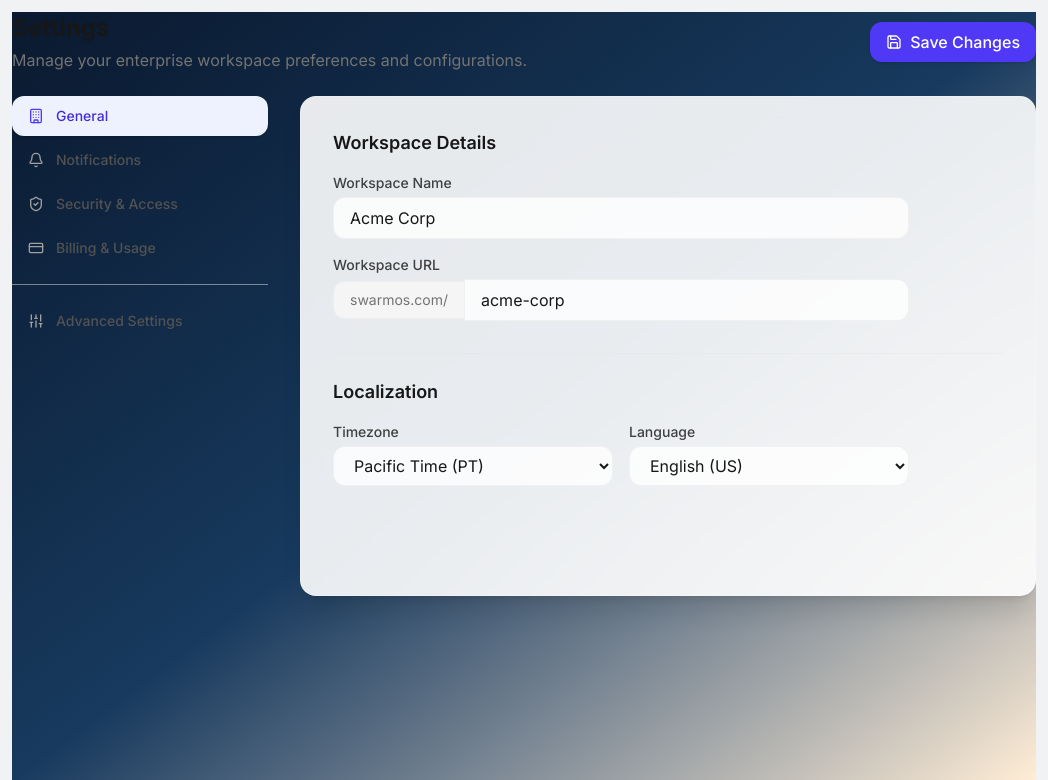
Settings Component › switches tabs correctly
Switch to Notifications
Click the button "Notifications".
click(140, 160)  # box left=12, top=140, right=268, bottom=180
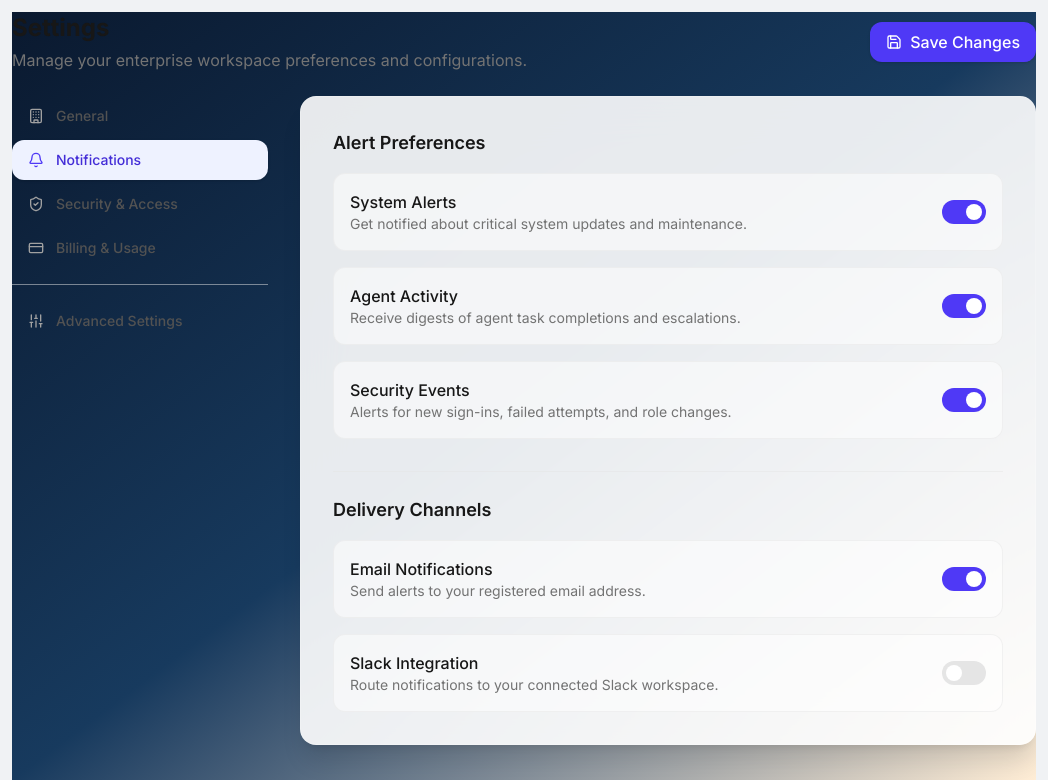
Result: the heading "Alert Preferences" is shown at left=333, top=132, right=486, bottom=153
Switch to Security & Access
Click the button "Security & Access".
click(140, 204)  # box left=12, top=184, right=268, bottom=224
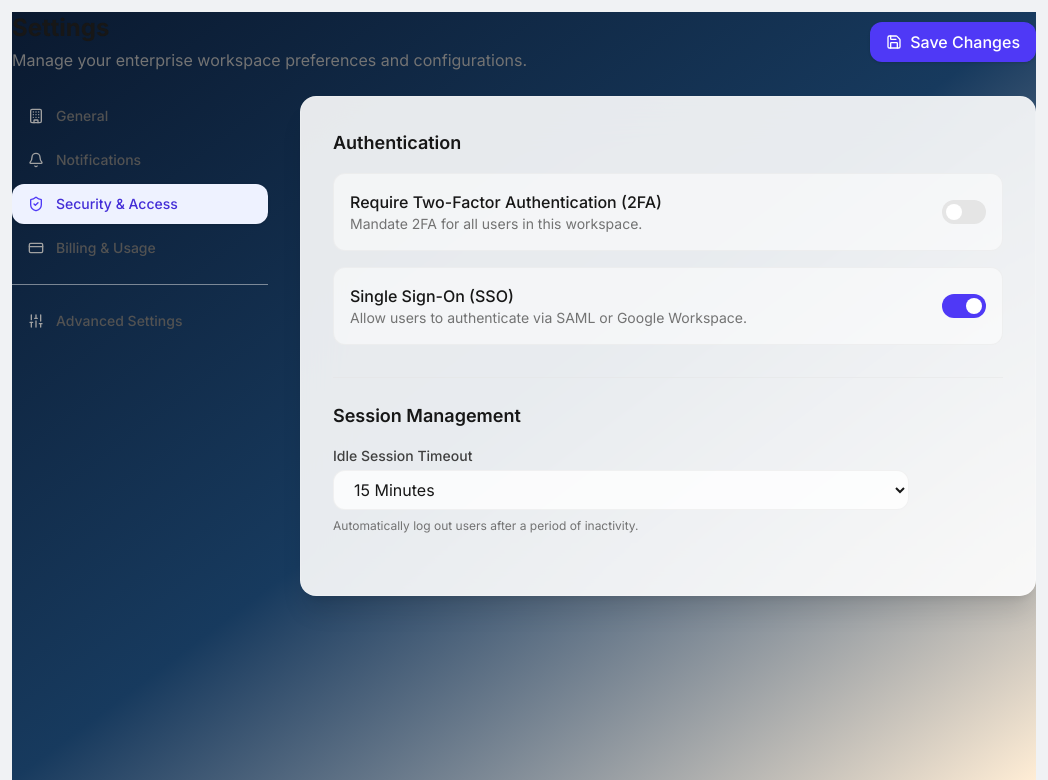
Result: the heading "Authentication" is shown at left=333, top=132, right=461, bottom=153
Switch to Billing & Usage
Click the button "Billing & Usage".
click(140, 248)  # box left=12, top=228, right=268, bottom=268
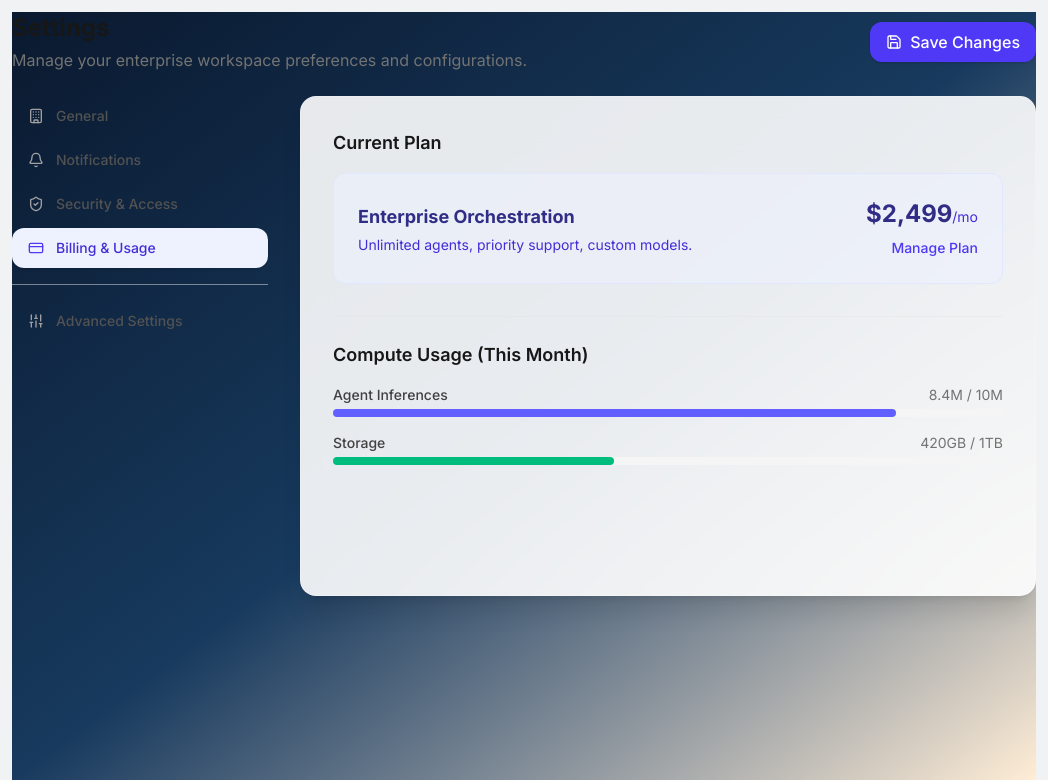
Result: the heading "Current Plan" is shown at left=333, top=132, right=442, bottom=153
Switch to Advanced Settings
Click the button "Advanced Settings".
click(140, 321)  # box left=12, top=301, right=268, bottom=341
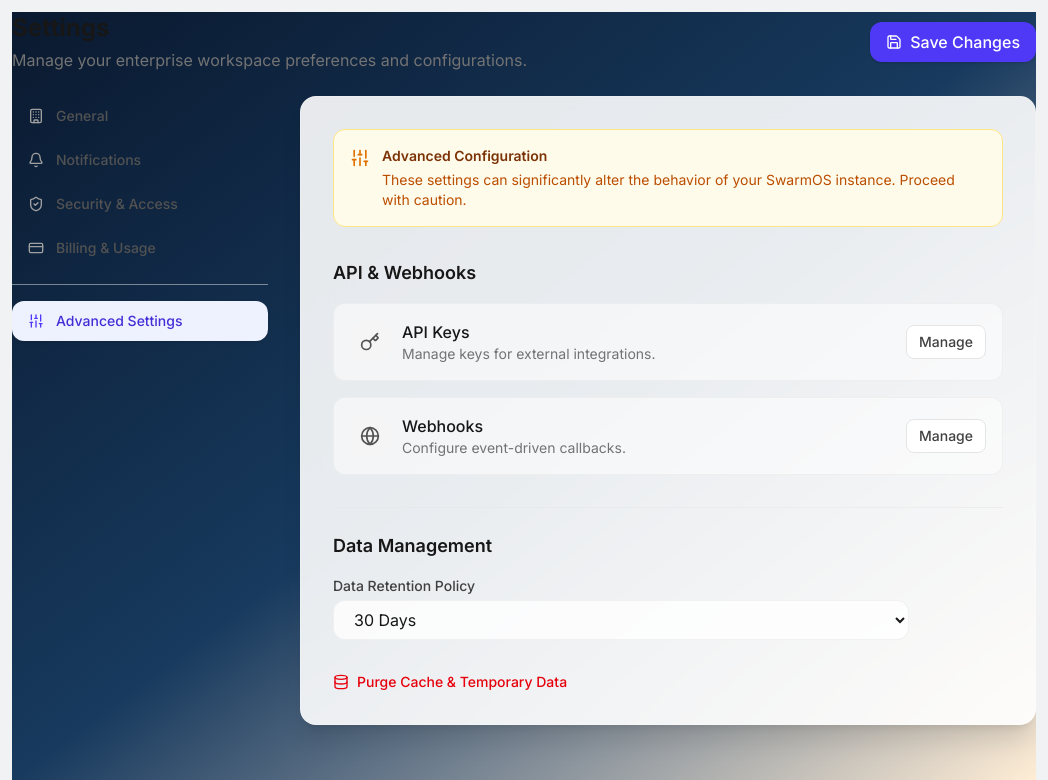
Result: the heading "Advanced Configuration" is shown at left=382, top=147, right=547, bottom=164
